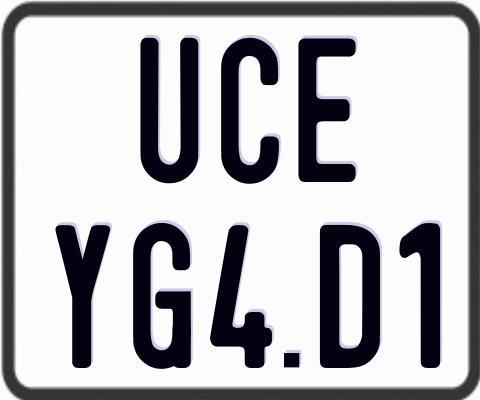1: (399, 220, 444, 370)
4: (210, 224, 277, 370)
C: (219, 38, 281, 184)
D: (320, 225, 386, 373)
E: (296, 36, 356, 180)
G: (132, 220, 190, 369)
U: (140, 35, 199, 184)
Y: (53, 222, 107, 371)
